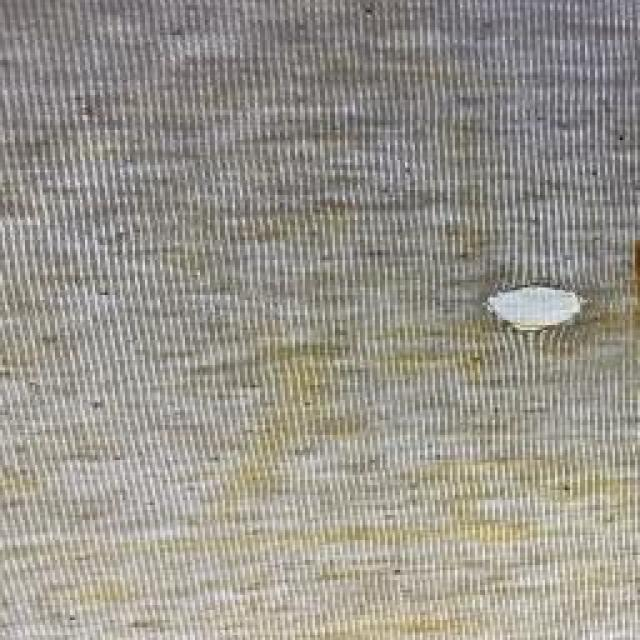other: (483, 278, 590, 336)
